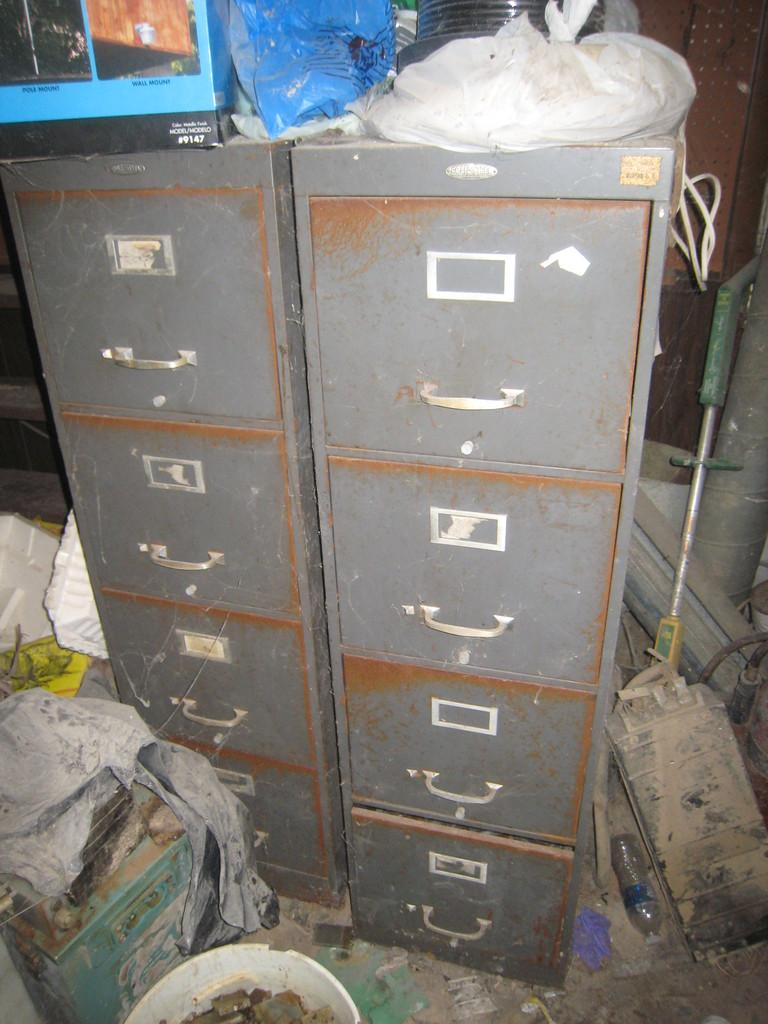cabinet_door: (323, 219, 628, 459), (347, 476, 601, 676), (39, 200, 269, 416), (76, 441, 292, 610), (360, 687, 566, 836), (385, 845, 556, 977), (138, 636, 300, 751)
handle: (428, 372, 534, 432), (422, 600, 512, 658), (100, 340, 197, 380), (147, 538, 229, 584), (422, 778, 498, 821), (424, 904, 493, 944), (183, 697, 256, 734)
